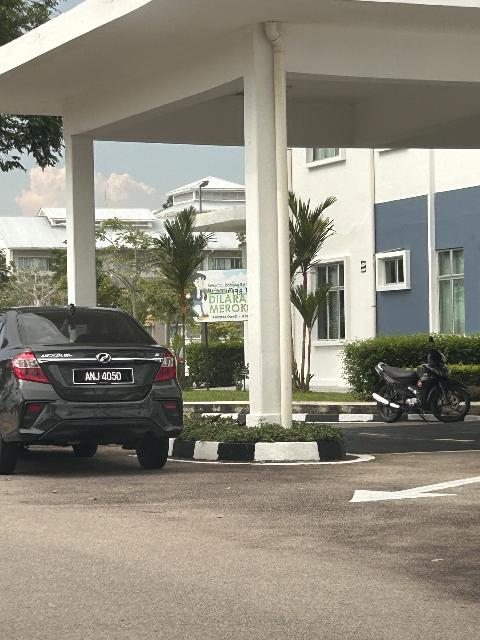License_Plate: (72, 368, 136, 391)
car: (1, 298, 197, 485)
